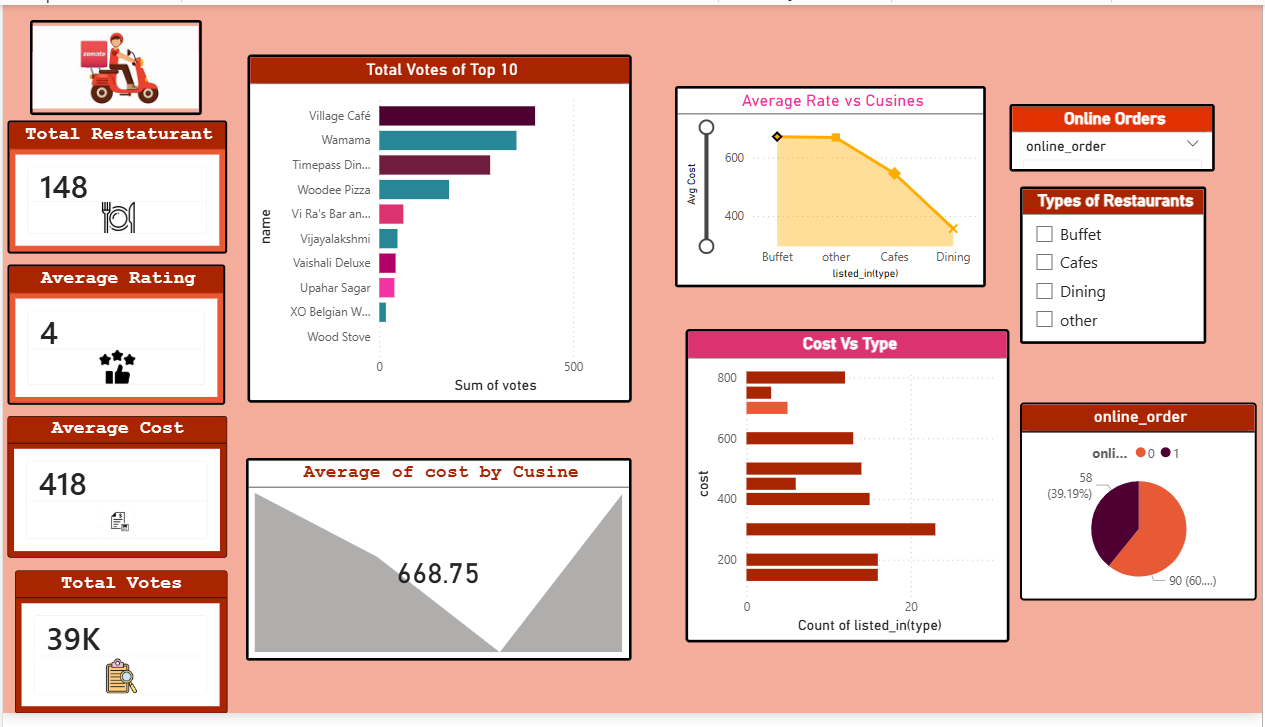

This screenshot's page, from the dashboard's own definition file:
{"tool":"powerbi","page":{"name":"Page 1","canvas":[1280,720],"ordinal":0},"visuals":[{"type":"pieChart","title":" online_order","fields":{"Category":["Zomato-data-.online_order"],"Y":["Zomato-data-.Total Restaurants"]},"box":[1034,404.1,241,201.3],"z":1000},{"type":"clusteredBarChart","title":"Total Votes of Top 10","fields":{"Category":["Zomato-data-.name"],"Y":["Sum(Zomato-data-.votes)"]},"box":[248.6,50.3,390.4,353.8],"z":2000},{"type":"clusteredBarChart","title":"Cost Vs Type","fields":{"Category":["Zomato-data-.approx_cost(for two people)"],"Y":["CountNonNull(Zomato-data-.listed_in(type))"]},"box":[693.9,329.4,329.4,318.7],"z":3000},{"type":"slicer","title":"Online Orders","fields":{"Values":["Zomato-data-.online_order"]},"box":[1023.3,100.7,208.9,68.6],"z":4000},{"type":"slicer","title":"Types of Restaurants","fields":{"Values":["Zomato-data-.listed_in(type)"]},"box":[1034,184.5,189.1,160.1],"z":5000},{"type":"cardVisual","title":"Total Restaturant","fields":{"Data":["Zomato-data-.Total Restaurants"]},"box":[4.4,117.4,223.1,135],"z":6000},{"type":"cardVisual","title":"Average Cost","fields":{"Data":["Zomato-data-.Avg Cost"]},"box":[4.4,418.3,223.1,143.9],"z":7000},{"type":"cardVisual","title":"Average Rating","fields":{"Data":["Zomato-data-.Avg Rating"]},"box":[4.4,264.2,221.7,142.4],"z":8000},{"type":"cardVisual","title":"Total Votes","fields":{"Data":["Zomato-data-.Total Votes"]},"box":[11.7,575.4,215.8,145.3],"z":9000},{"type":"lineChart","title":"Average Rate vs Cusines","fields":{"Category":["Zomato-data-.listed_in(type)"],"Y":["Sum(Zomato-data-.rate)"]},"box":[683.2,82.4,315.7,204.4],"z":9001},{"type":"image","box":[27.9,14.7,174.7,96.9],"z":9002},{"type":"kpi","title":"Average of cost by Cusine","fields":{"Indicator":["Avg(Zomato-data-.cost)"],"TrendLine":["Zomato-data-.listed_in(type)"]},"box":[247.1,460.6,391.9,205.9],"z":9003}]}

Visuals, with their boxes in screenshot pixels (x1, y1, x2, y2), scaled from the page's 1280x720 canvas onto the 1265x727 screenshot:
" online_order" pieChart: 1022,408,1260,611
"Total Votes of Top 10" clusteredBarChart: 246,51,632,408
"Cost Vs Type" clusteredBarChart: 686,333,1011,654
"Online Orders" slicer: 1011,102,1218,171
"Types of Restaurants" slicer: 1022,186,1209,348
"Total Restaturant" cardVisual: 4,119,225,255
"Average Cost" cardVisual: 4,422,225,568
"Average Rating" cardVisual: 4,267,223,411
"Total Votes" cardVisual: 12,581,225,726
"Average Rate vs Cusines" lineChart: 675,83,987,290
image: 28,15,200,113
"Average of cost by Cusine" kpi: 244,465,632,673
